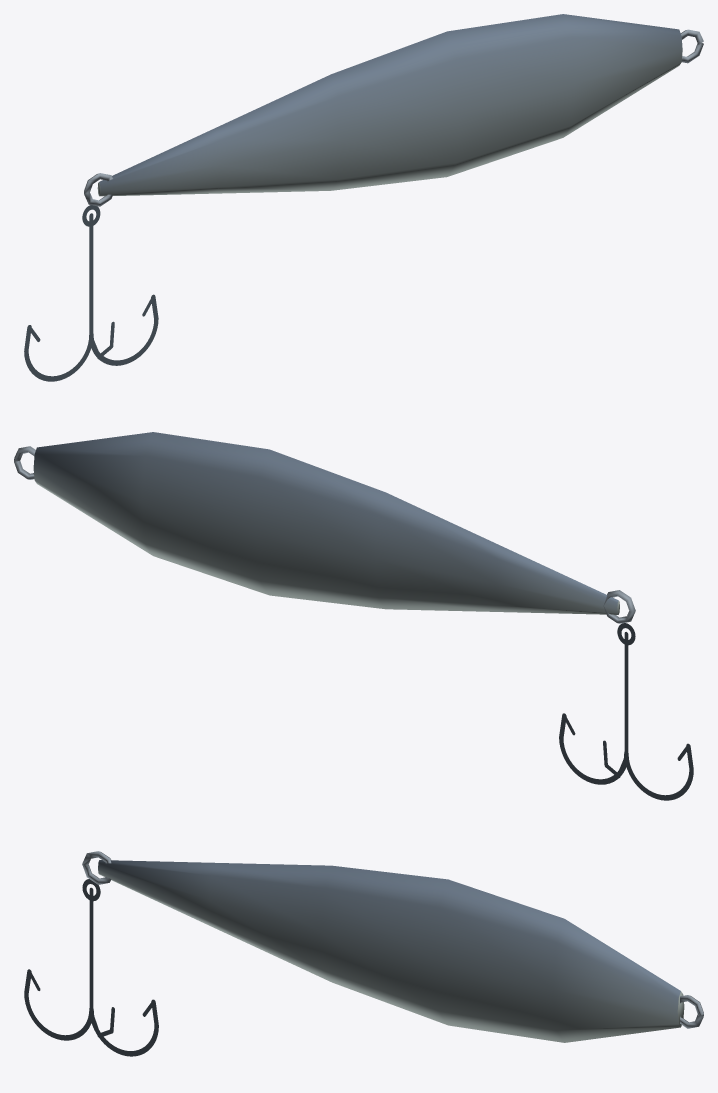
The model's file is metal_jig.glb.
3 renders of one model, top to bottom at view 1: azimuth 30°, elevation 25°; view 2: azimuth 150°, elevation 25°; view 3: azimuth 330°, elevation 25°, orthographic.
Visible parts, largest first — view 1: metal_jig_body_MESH, Treble_hook_ALPHA.010; view 2: metal_jig_body_MESH, Treble_hook_ALPHA.010; view 3: metal_jig_body_MESH, Treble_hook_ALPHA.010, Attachment_eye_MESH.018, Attachment_eye_MESH.017.
Part boxes in pixels (x1,y1,x2,y2): metal_jig_body_MESH: [97, 14, 682, 196]; Treble_hook_ALPHA.010: [24, 205, 158, 381]; metal_jig_body_MESH: [33, 432, 619, 614]; Treble_hook_ALPHA.010: [559, 623, 693, 800]; metal_jig_body_MESH: [98, 860, 684, 1042]; Treble_hook_ALPHA.010: [24, 879, 158, 1056]; Attachment_eye_MESH.018: [82, 851, 111, 884]; Attachment_eye_MESH.017: [680, 995, 703, 1028].
Size of the model in its own units: 0.0891 by 0.033 by 0.006.
Materials: 3 (2 with a texture image).
